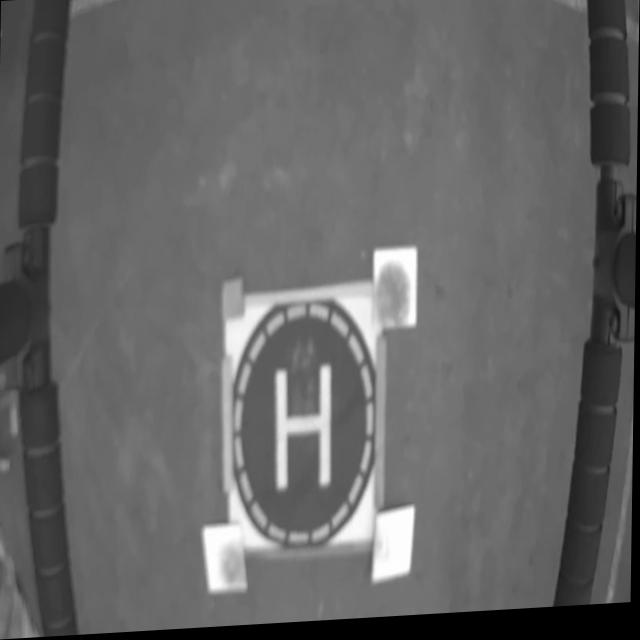Helipad: (276, 365, 333, 494)
